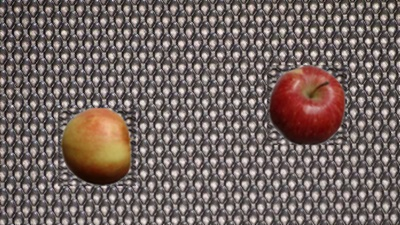Apple: (267, 65, 347, 145), (58, 108, 136, 186)
